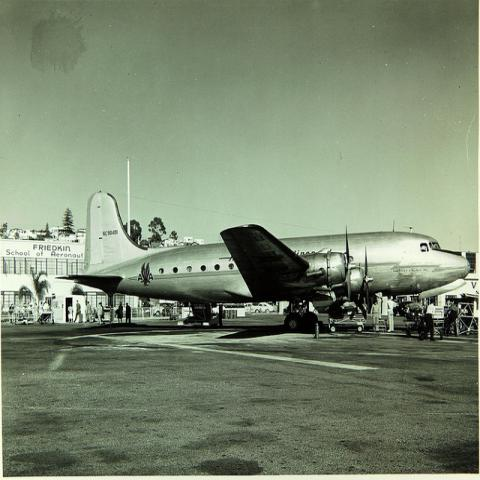car: (330, 317, 364, 332), (255, 302, 275, 314), (399, 301, 414, 316), (154, 304, 164, 316), (244, 302, 256, 311)
truck: (309, 299, 369, 332)
